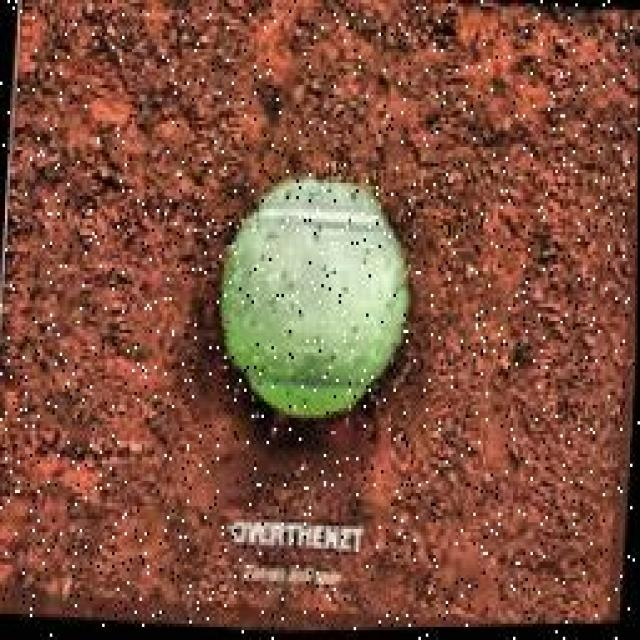tennis-ball: (210, 175, 419, 453)
